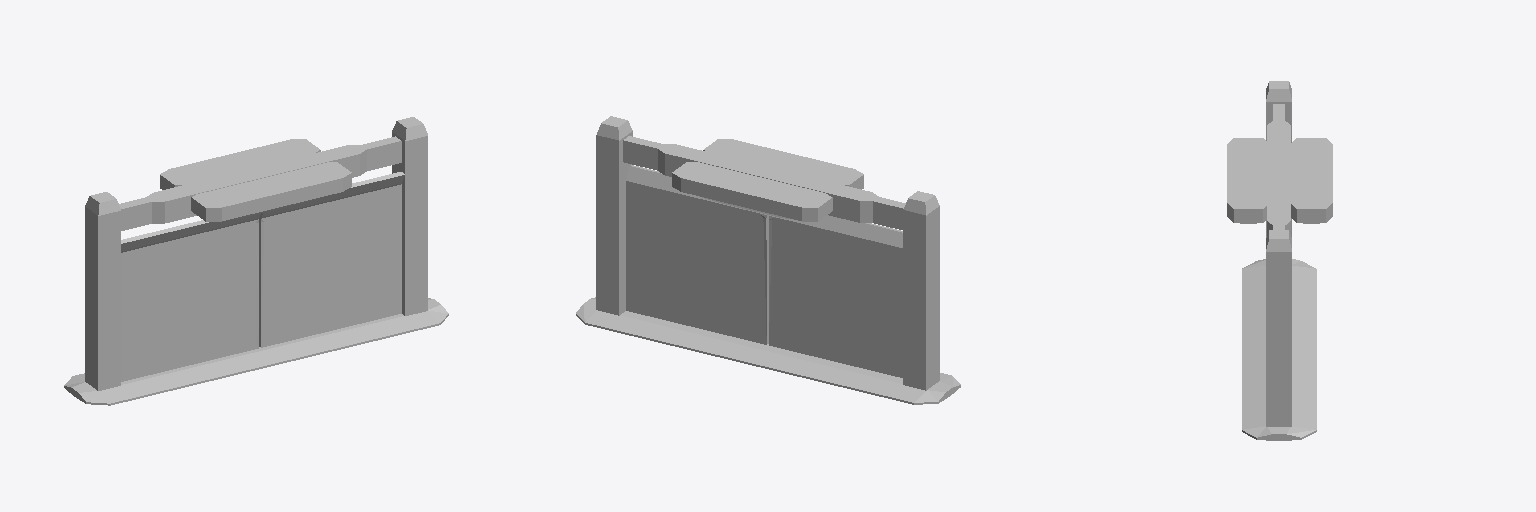
File: Ограда ворота 1.obj
3 views of the same model, side by side, from view 1: azimuth 30°, elevation 25°; view 2: azimuth 150°, elevation 25°; view 3: azimuth 270°, elevation 25° (orthographic).
Visible parts, largest first — view 1: Plane.001_Plane.002, Plane, Cube_Cube.005, Cube.001, Cube.003_Cube.007, Cube.002_Cube.006, Cube.006_Cube.003, Cube.004_Cube.008; view 2: Plane.001_Plane.002, Plane, Cube_Cube.005, Cube.001, Cube.002_Cube.006, Cube.003_Cube.007, Cube.004_Cube.008, Cube.006_Cube.003; view 3: Cube_Cube.005, Cube.002_Cube.006, Cube.004_Cube.008, Cube.006_Cube.003, Cube.003_Cube.007, Cube.001.
Boxes of the visible parts, x1=… form: Plane.001_Plane.002: x1=259, y1=172, x2=404, y2=347; Plane: x1=121, y1=214, x2=260, y2=381; Cube_Cube.005: x1=64, y1=298, x2=448, y2=405; Cube.001: x1=85, y1=192, x2=120, y2=390; Cube.003_Cube.007: x1=119, y1=136, x2=401, y2=230; Cube.002_Cube.006: x1=392, y1=117, x2=427, y2=315; Cube.006_Cube.003: x1=191, y1=162, x2=351, y2=221; Cube.004_Cube.008: x1=160, y1=139, x2=320, y2=189; Plane.001_Plane.002: x1=626, y1=165, x2=768, y2=344; Plane: x1=769, y1=215, x2=902, y2=377; Cube_Cube.005: x1=576, y1=297, x2=960, y2=404; Cube.001: x1=903, y1=191, x2=939, y2=390; Cube.002_Cube.006: x1=596, y1=116, x2=632, y2=315; Cube.003_Cube.007: x1=623, y1=136, x2=905, y2=229; Cube.004_Cube.008: x1=672, y1=162, x2=832, y2=221; Cube.006_Cube.003: x1=703, y1=139, x2=863, y2=189; Cube_Cube.005: x1=1242, y1=259, x2=1316, y2=440; Cube.002_Cube.006: x1=1266, y1=230, x2=1291, y2=426; Cube.004_Cube.008: x1=1291, y1=138, x2=1332, y2=223; Cube.006_Cube.003: x1=1227, y1=138, x2=1266, y2=223; Cube.003_Cube.007: x1=1267, y1=104, x2=1290, y2=234; Cube.001: x1=1266, y1=81, x2=1291, y2=237.
Bounding box in the file's own units: 6.9 × 3.51 × 1.74.